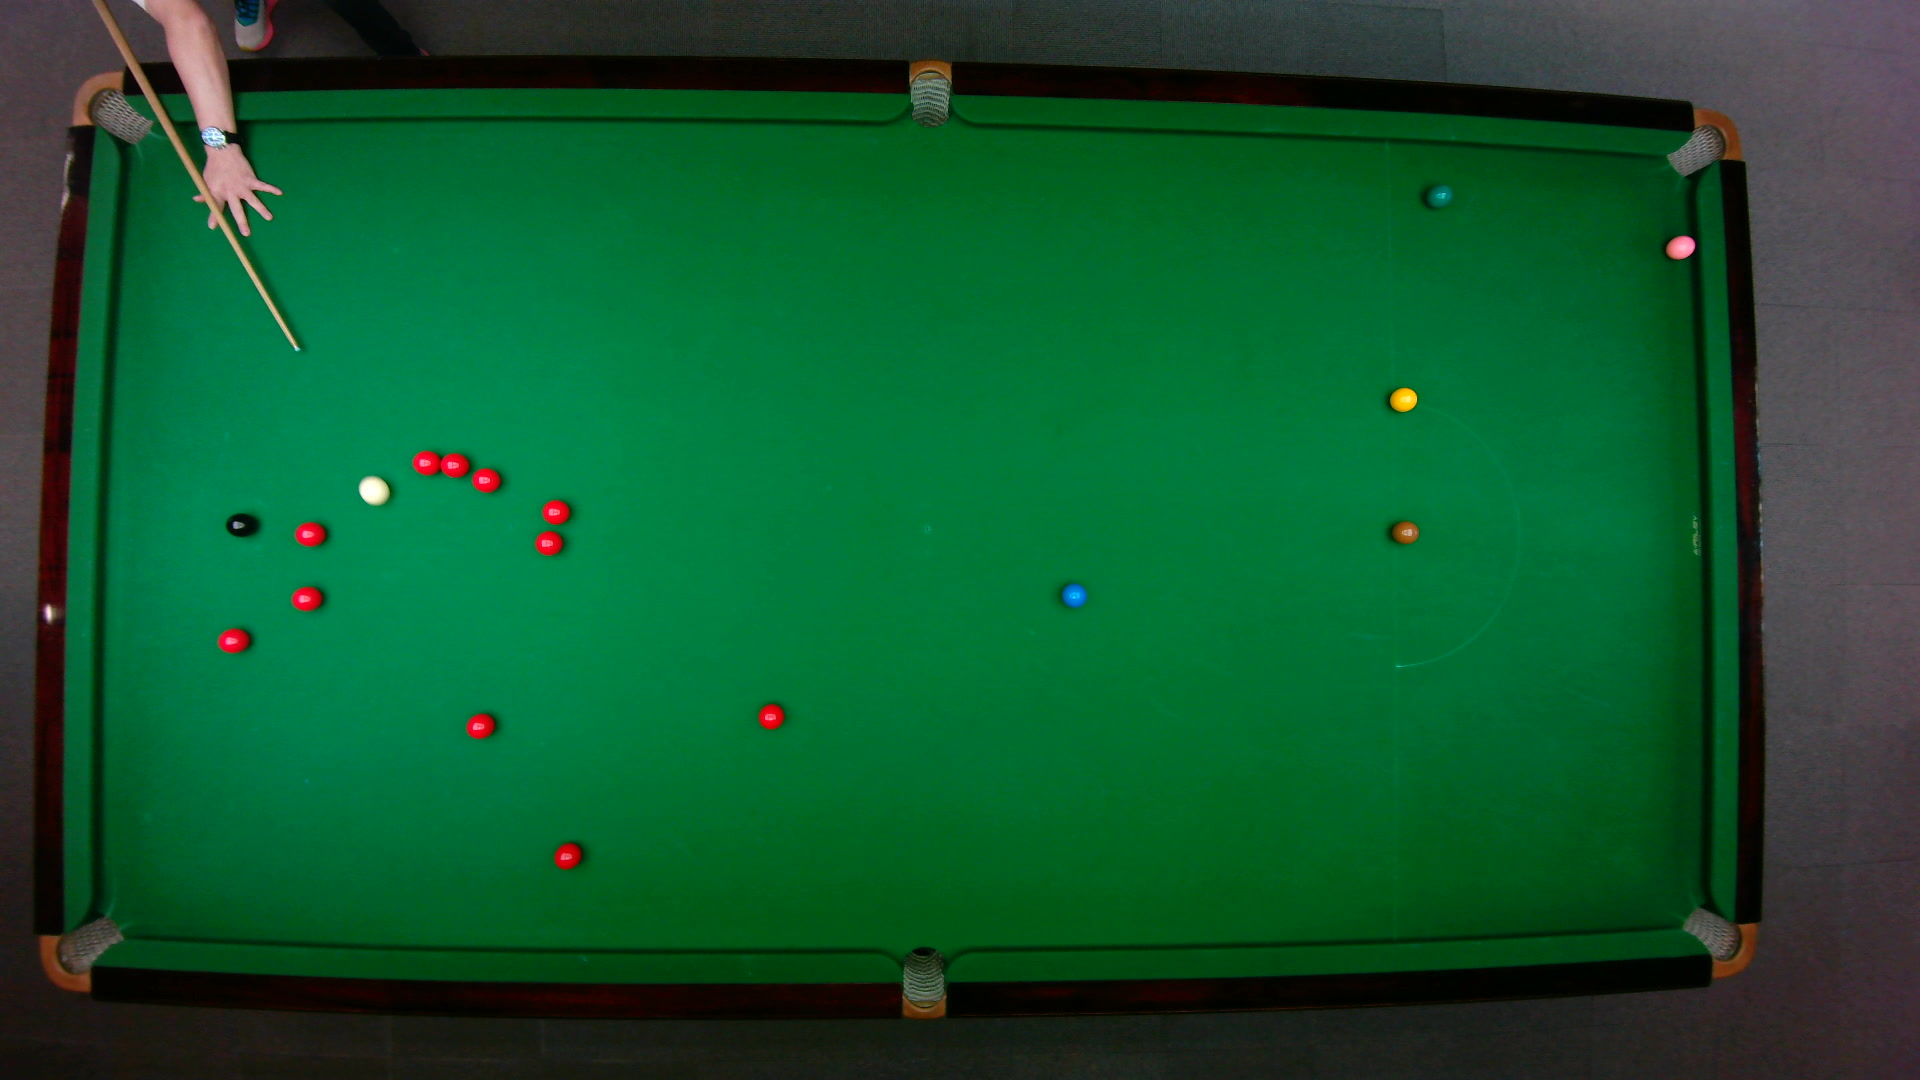bag: (37, 913, 125, 992), (69, 70, 153, 144), (1677, 905, 1756, 978), (1663, 107, 1741, 177), (901, 944, 944, 1021), (909, 57, 949, 128)
black: (223, 512, 256, 537)
blue: (1059, 582, 1087, 608)
brown: (1389, 520, 1419, 545)
cue: (84, 0, 303, 352)
green: (1423, 181, 1453, 208)
pink: (1663, 232, 1697, 260)
red: (287, 583, 323, 612), (214, 625, 251, 653), (291, 520, 326, 547), (551, 840, 582, 870), (464, 711, 496, 738), (756, 702, 785, 731), (533, 529, 563, 556), (439, 450, 469, 477), (469, 465, 501, 492), (410, 448, 440, 475), (541, 498, 570, 525)
white: (356, 473, 390, 505)
yellow: (1387, 385, 1418, 411)
zone: (1390, 402, 1519, 667)
